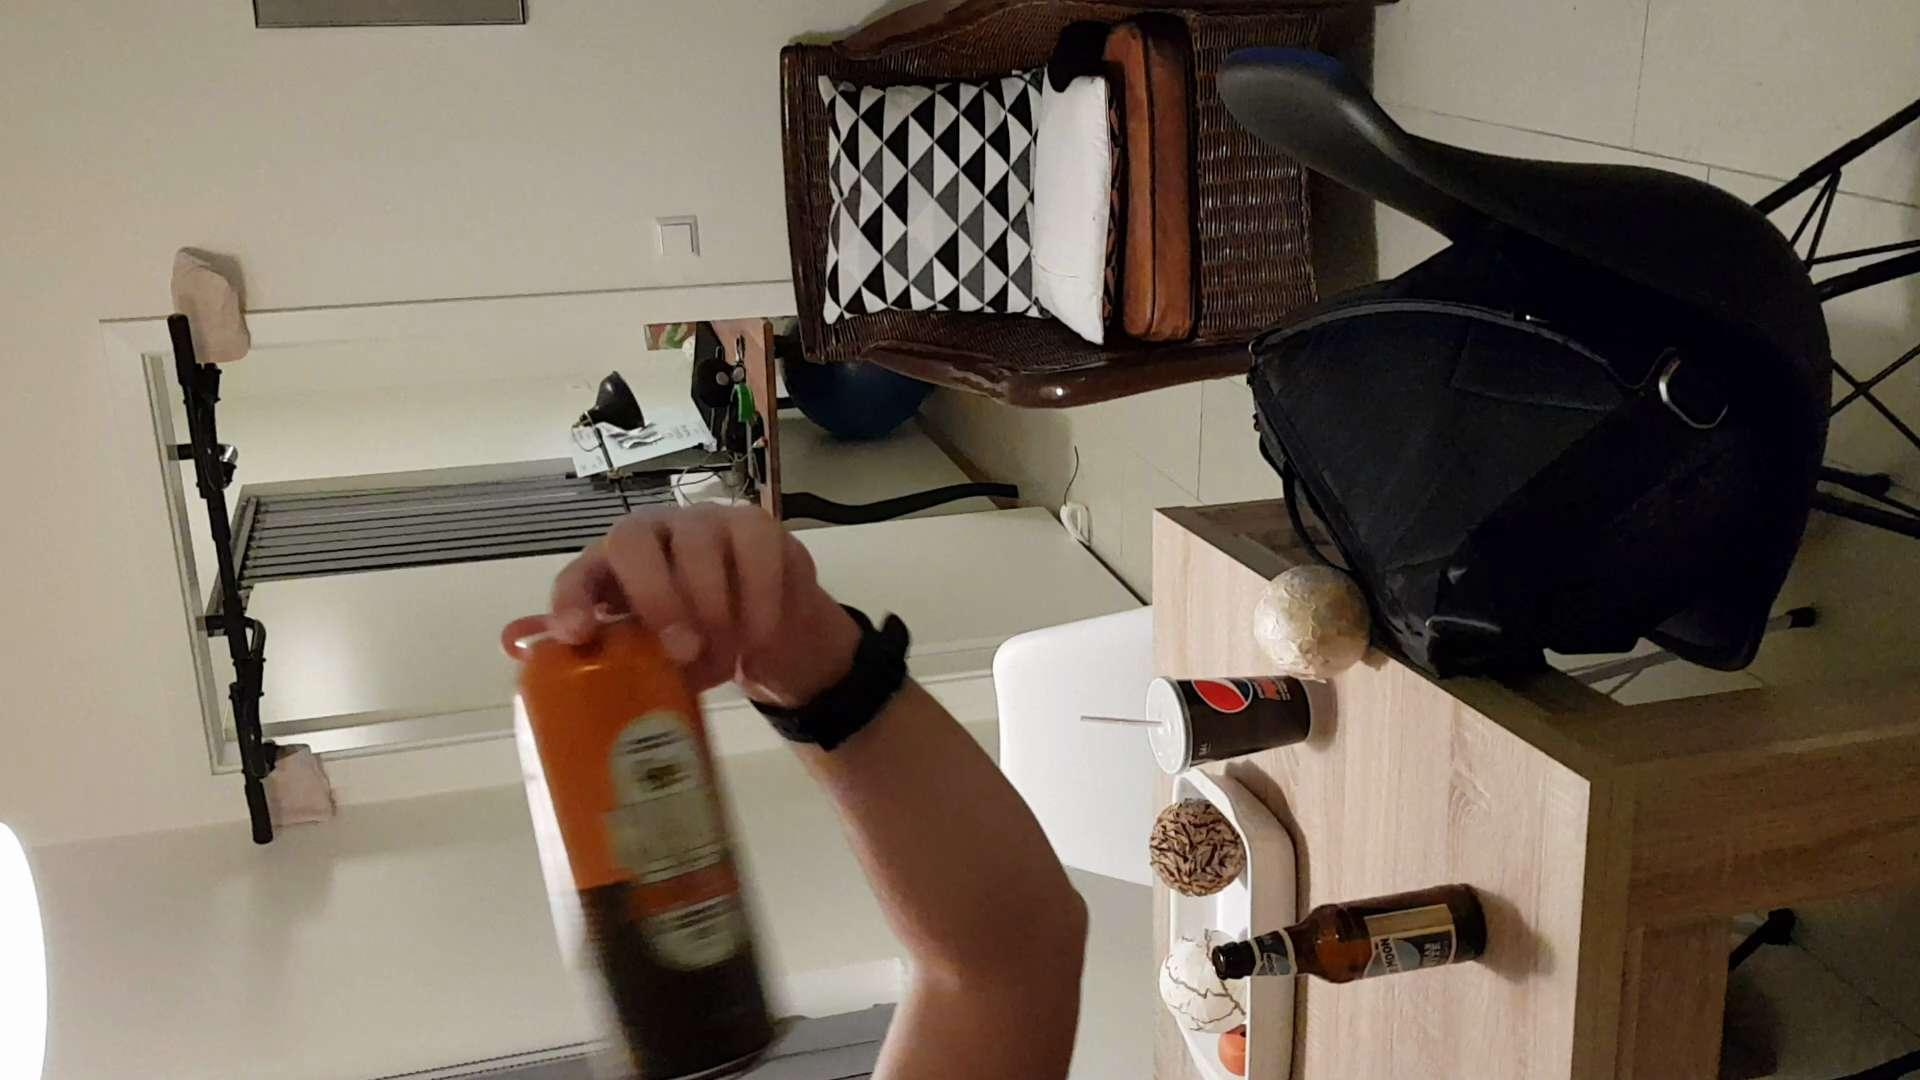Can: (487, 608, 773, 1080)
